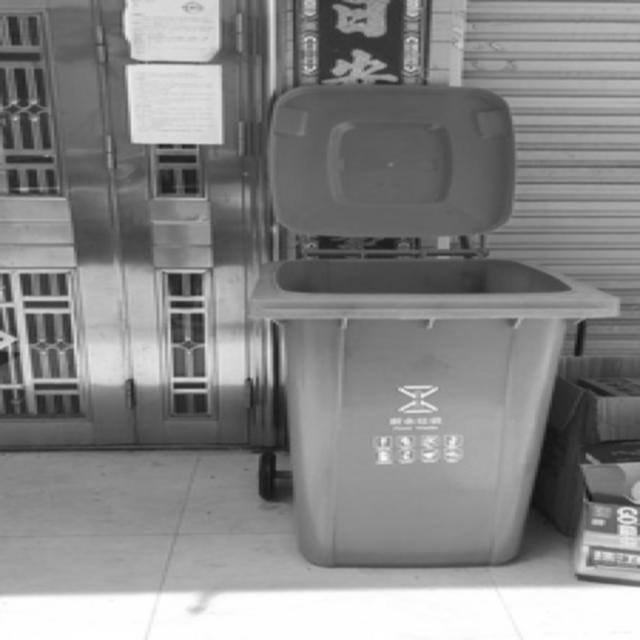ash bin: (245, 83, 620, 568)
